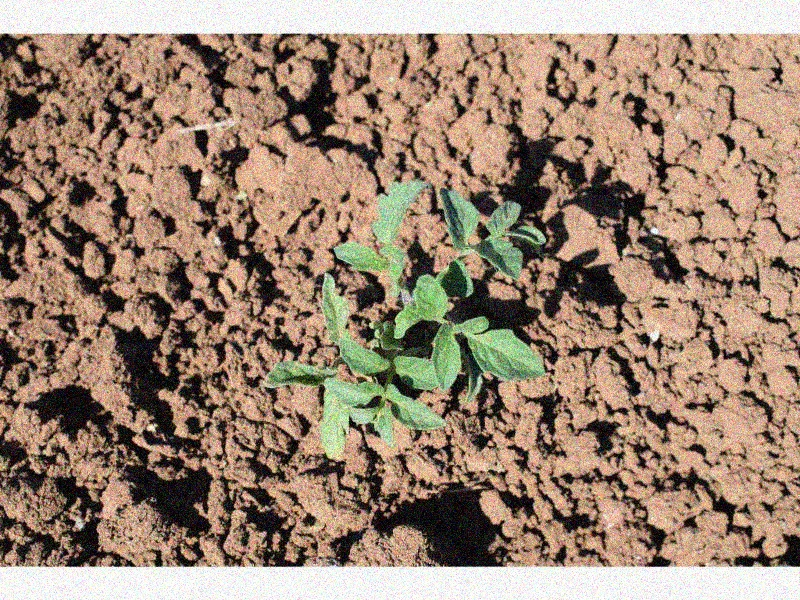tomato: (261, 177, 545, 458)
